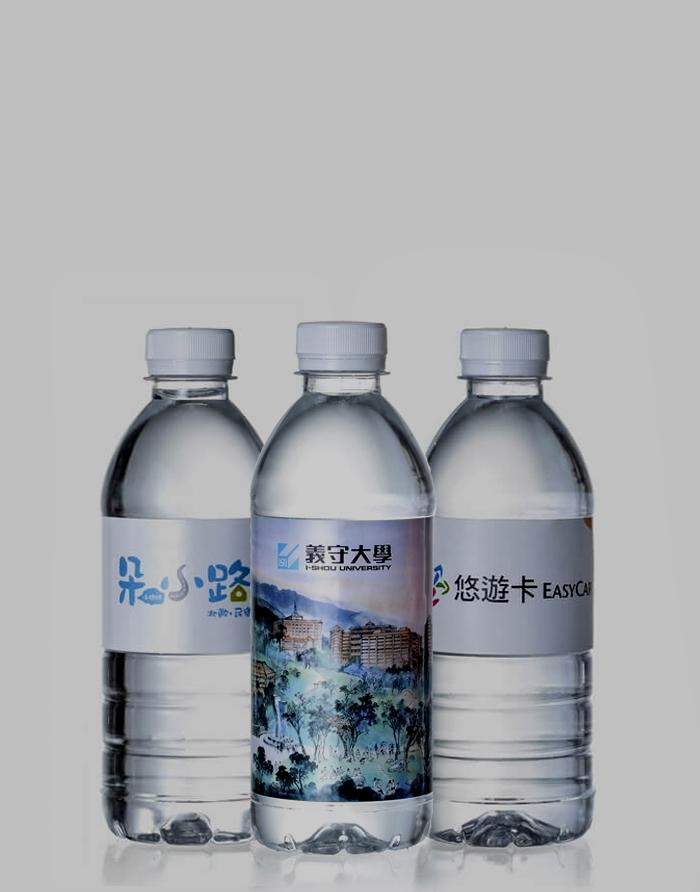bottle: (238, 314, 444, 865), (400, 320, 603, 865), (95, 267, 294, 809)
